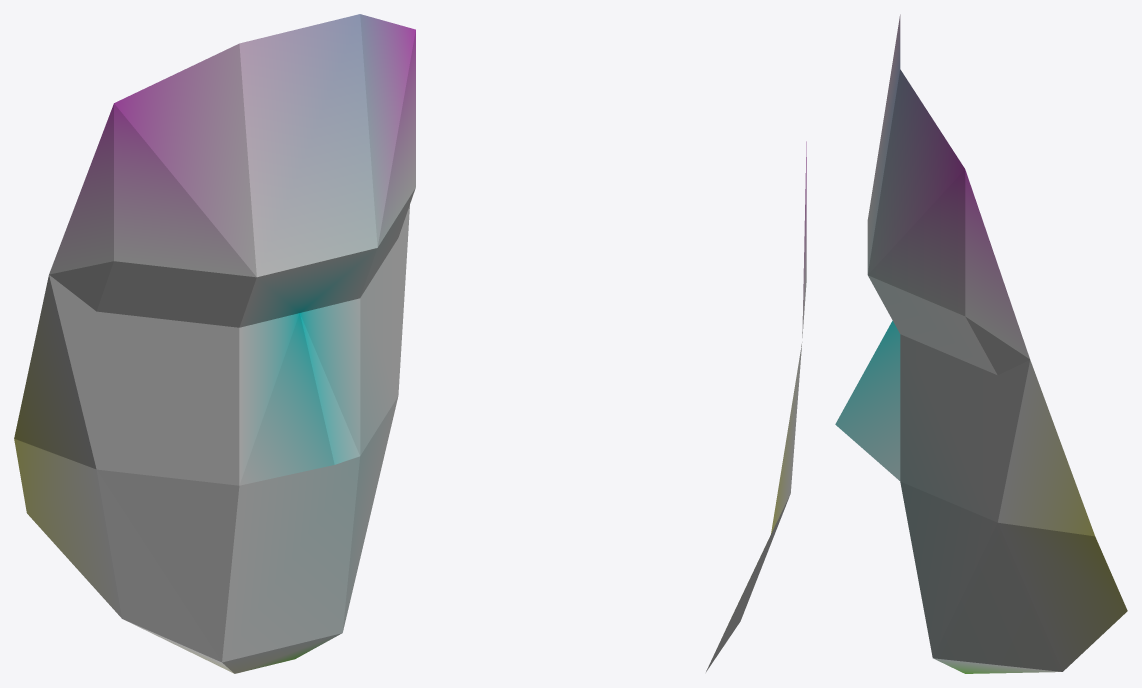
3 views of the same model, side by side, from view 1: azimuth 30°, elevation 25°; view 2: azimuth 150°, elevation 25°; view 3: azimuth 270°, elevation 25° (orthographic). The views are drawn at different scales.
Parts seen in each view (by area): view 1: model_141A; view 2: model_141A; view 3: model_141A.
Part boxes in pixels (x1,y1,x2,y2): model_141A: (14,14,415,673); model_141A: (706,141,806,671); model_141A: (835,14,1127,673).
Size of the model in its own units: 12 by 21 by 9.
